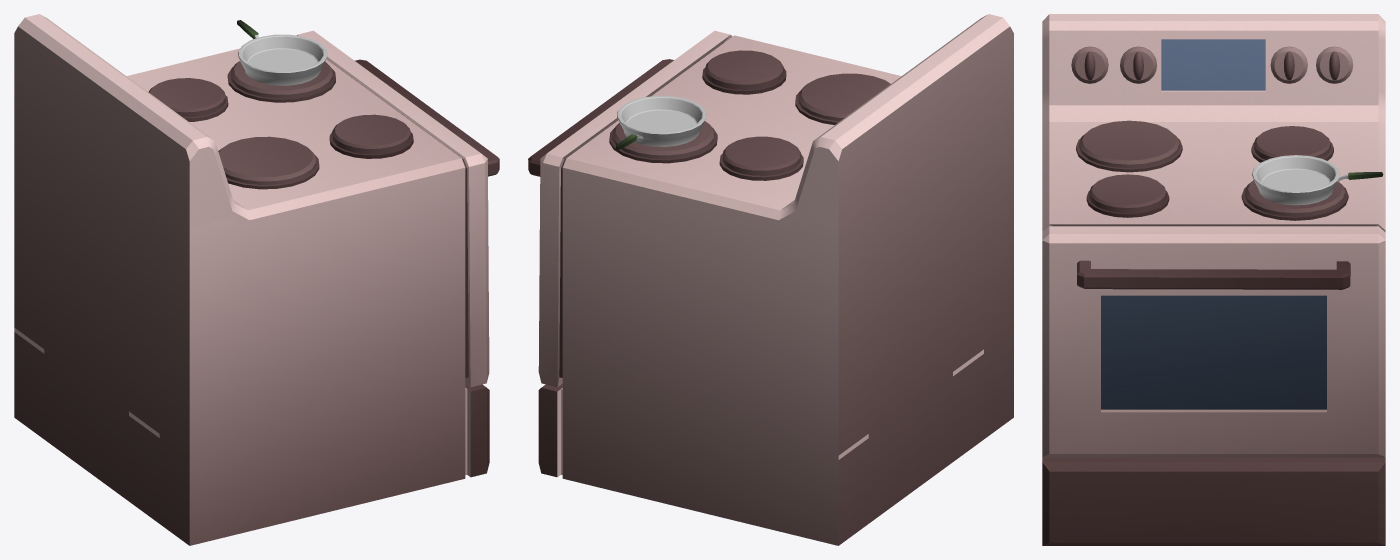
File: Oven.fbx
The picture shows the model from 3 angles, left to right: view 1: azimuth 30°, elevation 25°; view 2: azimuth 150°, elevation 25°; view 3: azimuth 270°, elevation 25°; orthographic projection. The views are drawn at different scales.
Visible parts, largest first — view 1: polySurface4, Burners, polySurface5, pCylinder1; view 2: polySurface4, Burners, polySurface5, pCylinder1; view 3: polySurface4, polySurface5, Burners, Knobs, pCylinder1.
Boxes of the visible parts, bbox=[...] form: polySurface4: bbox=[14, 14, 489, 545]; Burners: bbox=[148, 61, 413, 189]; polySurface5: bbox=[297, 30, 499, 387]; pCylinder1: bbox=[237, 20, 327, 85]; polySurface4: bbox=[538, 14, 1013, 545]; Burners: bbox=[609, 50, 890, 180]; polySurface5: bbox=[528, 30, 732, 387]; pCylinder1: bbox=[616, 95, 706, 149]; polySurface4: bbox=[1042, 14, 1385, 545]; polySurface5: bbox=[1042, 226, 1385, 457]; Burners: bbox=[1076, 120, 1348, 220]; Knobs: bbox=[1071, 46, 1353, 83]; pCylinder1: bbox=[1251, 155, 1383, 205].
Size of the model in its own units: 10.33 by 11.93 by 9.45.
